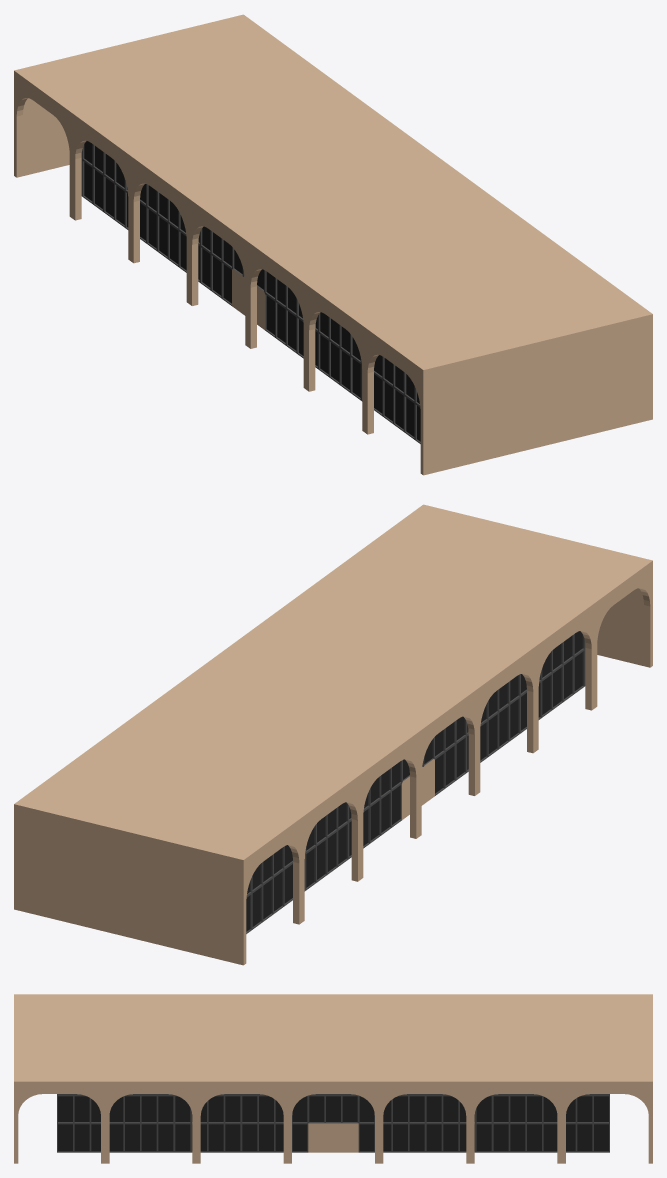
File: usthb_map(1).gltf
3 views of the same model, one above another, from view 1: azimuth 30°, elevation 25°; view 2: azimuth 150°, elevation 25°; view 3: azimuth 270°, elevation 25° (orthographic). The views are drawn at different scales.
Parts seen in each view (by area): view 1: rectorat; view 2: rectorat; view 3: rectorat.
Part boxes in pixels (<box>): rectorat: <box>14,14,652,475</box>; rectorat: <box>14,504,652,965</box>; rectorat: <box>14,994,652,1163</box>.
Bounding box in the file's own units: 40.64 × 17.81 × 125.
Materials: 1 (1 with a texture image).
